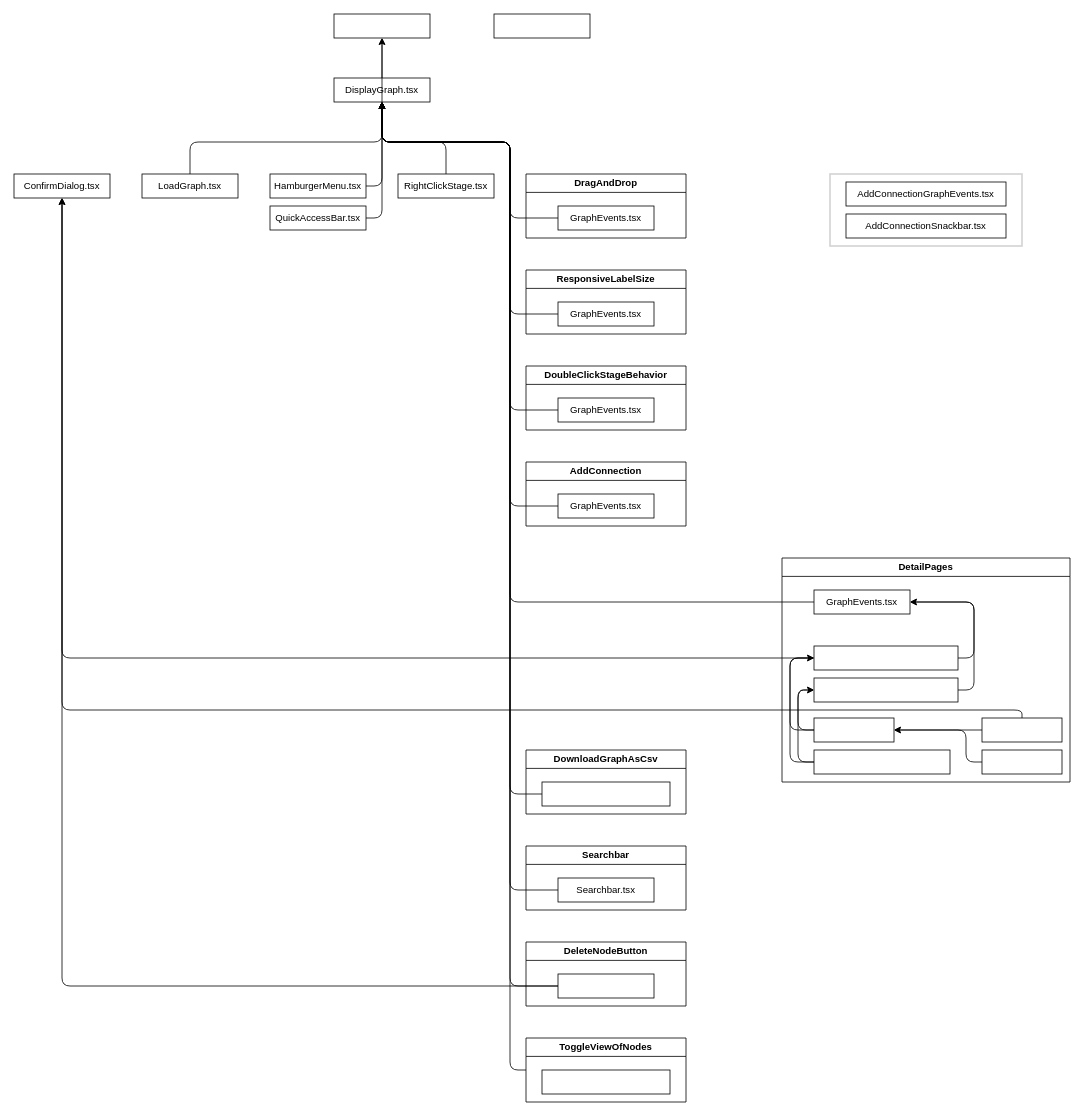
This 1084x1116 diagram has some shape labels left out. Here are the shapes that lost their labels. From the top down, the centre of each, then its label:
At (x=381, y=25): "App.tsx".
At (x=541, y=25): "globals.tsx".
At (x=885, y=657): "ClimateConceptNodeDetails.tsx".
At (x=885, y=689): "EdgeDetails.tsx".
At (x=853, y=729): "Sources.tsx".
At (x=1021, y=729): "Source.tsx".
At (x=881, y=761): "EditStringRepresentation.tsx".
At (x=1021, y=761): "NewSource.tsx".
At (x=605, y=793): "DownloadGraphAsCsv.tsx".
At (x=605, y=985): "DeleteNodeButton.tsx".
At (x=605, y=1081): "ToggleViewOfNodes.tsx".
